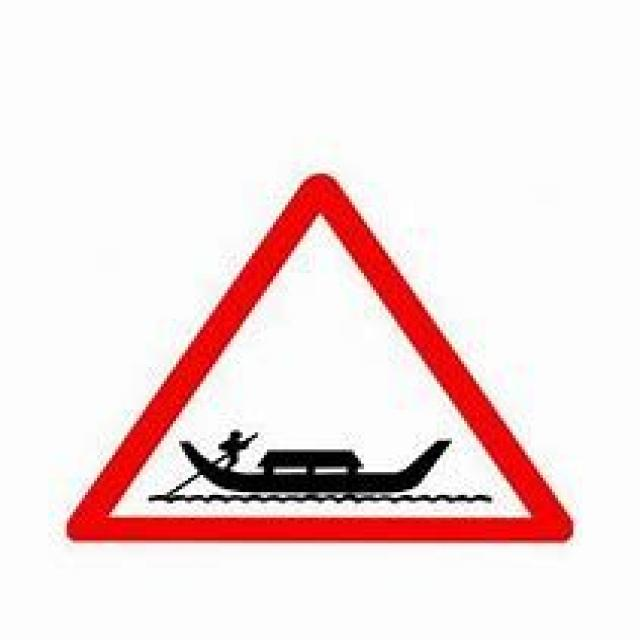FERRY: (64, 168, 570, 540)
